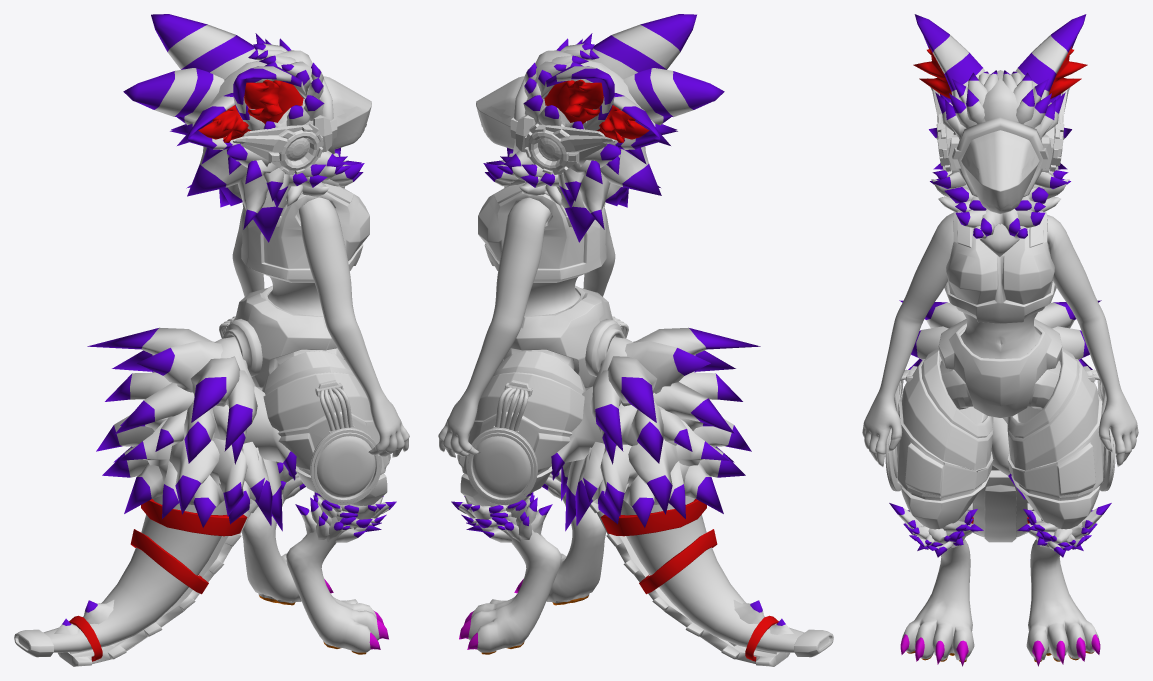
Rendered from AVA_Spawn_base.fbx.
3 renders of one model, left to right at view 1: azimuth 30°, elevation 25°; view 2: azimuth 150°, elevation 25°; view 3: azimuth 270°, elevation 25°, orthographic. The views are drawn at different scales.
Visible parts, largest first — view 1: Body_mesh; view 2: Body_mesh; view 3: Body_mesh.
Part boxes in pixels (x1,y1,x2,y2): Body_mesh: [14, 14, 409, 666]; Body_mesh: [438, 14, 833, 666]; Body_mesh: [862, 14, 1138, 666].
Bounding box in the file's own units: 89.68 × 63.4 × 148.
